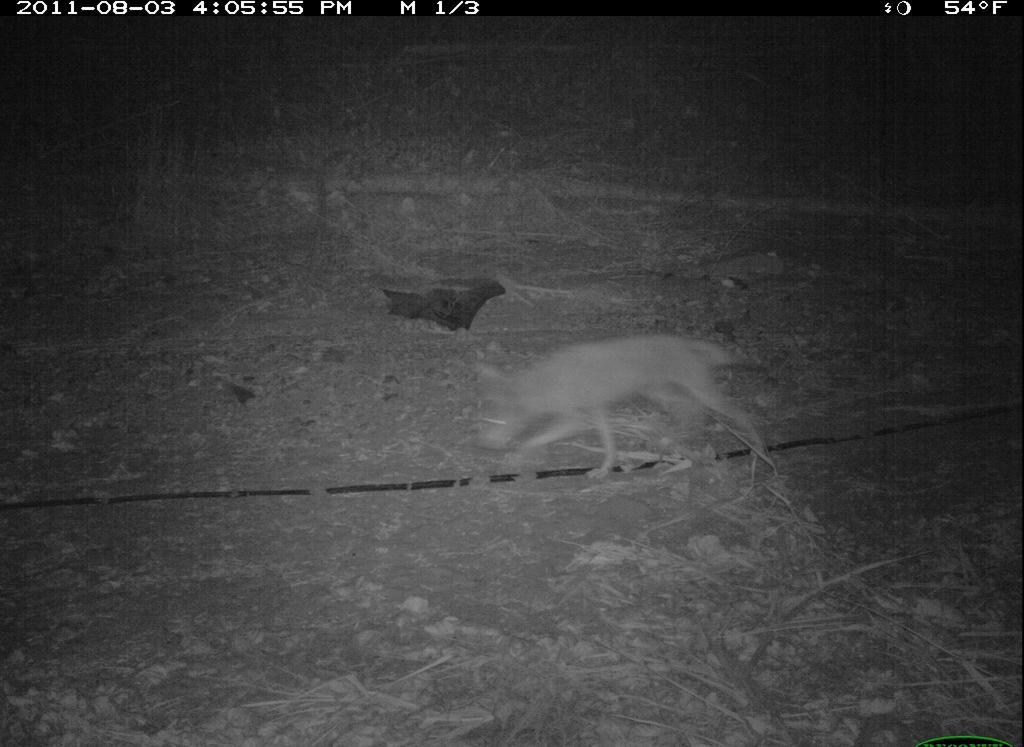coyote: (446, 321, 831, 528)
